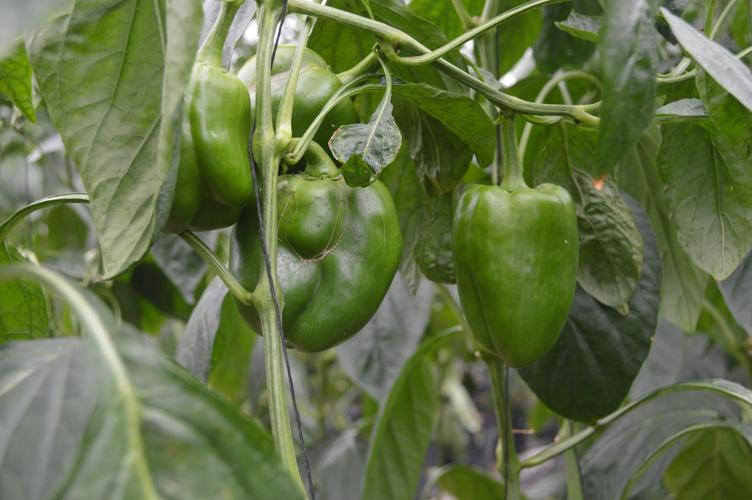BellPepper: (220, 172, 398, 353), (445, 185, 578, 369), (239, 45, 358, 163), (177, 66, 248, 238)
